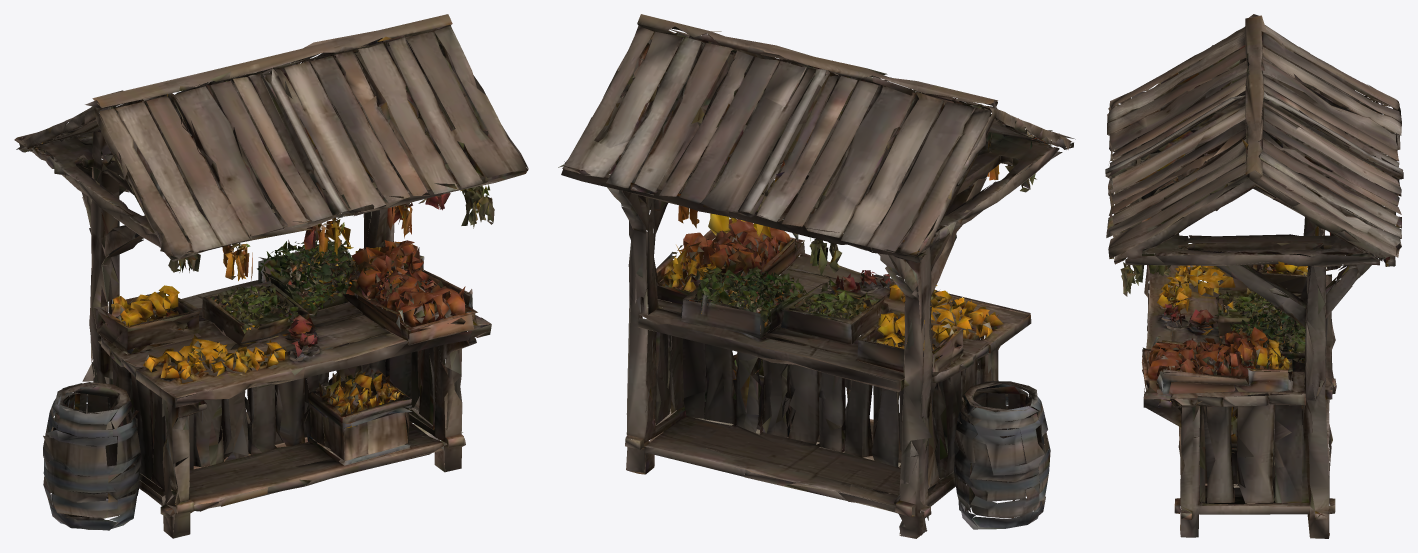
The model's file is Rustic_Market_Stall_town.glb.
3 renders of one model, left to right at view 1: azimuth 30°, elevation 25°; view 2: azimuth 150°, elevation 25°; view 3: azimuth 270°, elevation 25°, orthographic. The views are drawn at different scales.
Parts seen in each view (by area): view 1: Rustic_Market_Stall; view 2: Rustic_Market_Stall; view 3: Rustic_Market_Stall.
Part boxes in pixels (x1,y1,x2,y2): Rustic_Market_Stall: [14, 14, 528, 538]; Rustic_Market_Stall: [558, 14, 1075, 538]; Rustic_Market_Stall: [1105, 14, 1403, 538].
Bounding box in the file's own units: 1.94 × 1.9 × 1.35.
Materials: 1 (1 with a texture image).
